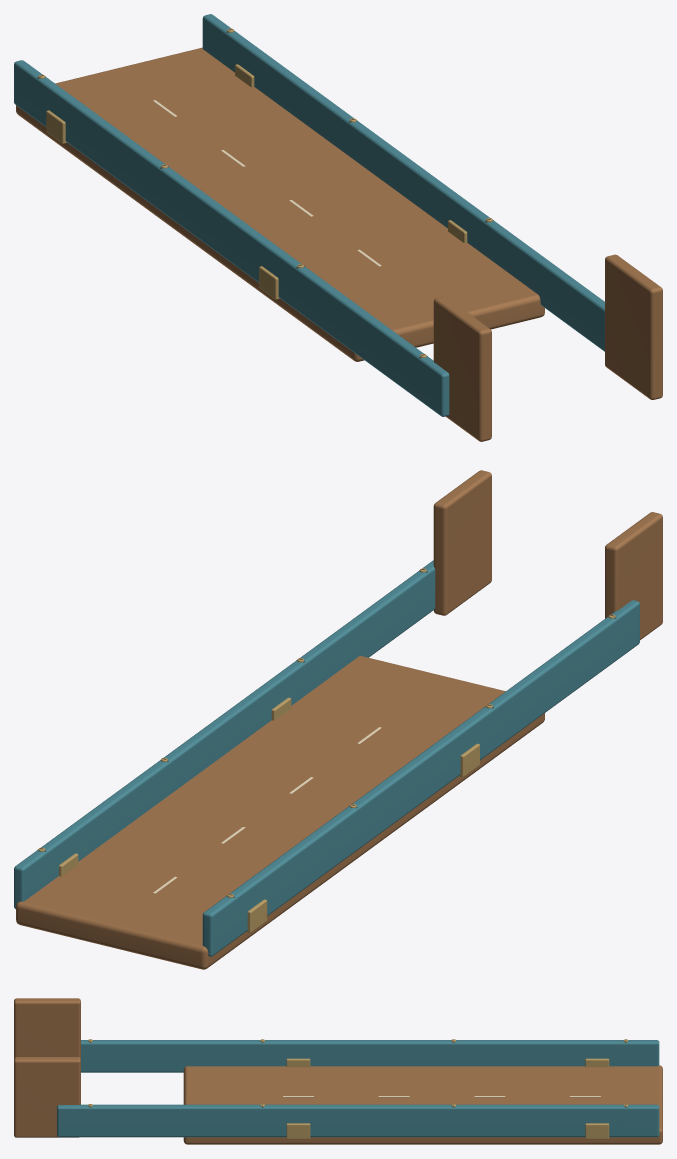
Rendered from ball_runway.glb.
The picture shows the model from 3 angles, top to bottom: view 1: azimuth 30°, elevation 25°; view 2: azimuth 150°, elevation 25°; view 3: azimuth 270°, elevation 25°; orthographic projection. The views are drawn at different scales.
Parts seen in each view (by area): view 1: V15_HoneyOak.003, V15_BluePaint.002, V15_BrushedBrass.003; view 2: V15_HoneyOak.003, V15_BluePaint.002, V15_BrushedBrass.003; view 3: V15_BluePaint.002, V15_HoneyOak.003, V15_BrushedBrass.003, V15_CreamPaint.004.
Part boxes in pixels (box(x1,y1,x2,y2)): V15_HoneyOak.003: box(16, 47, 662, 441); V15_BluePaint.002: box(14, 14, 604, 416); V15_BrushedBrass.003: box(38, 28, 492, 357); V15_HoneyOak.003: box(16, 470, 662, 969); V15_BluePaint.002: box(14, 560, 639, 956); V15_BrushedBrass.003: box(38, 568, 615, 932); V15_BluePaint.002: box(57, 1040, 659, 1137); V15_HoneyOak.003: box(14, 998, 662, 1144); V15_BrushedBrass.003: box(88, 1039, 628, 1139); V15_CreamPaint.004: box(283, 1096, 600, 1097).
Size of the model in its own units: 0.695 by 0.3875 by 2.72.
